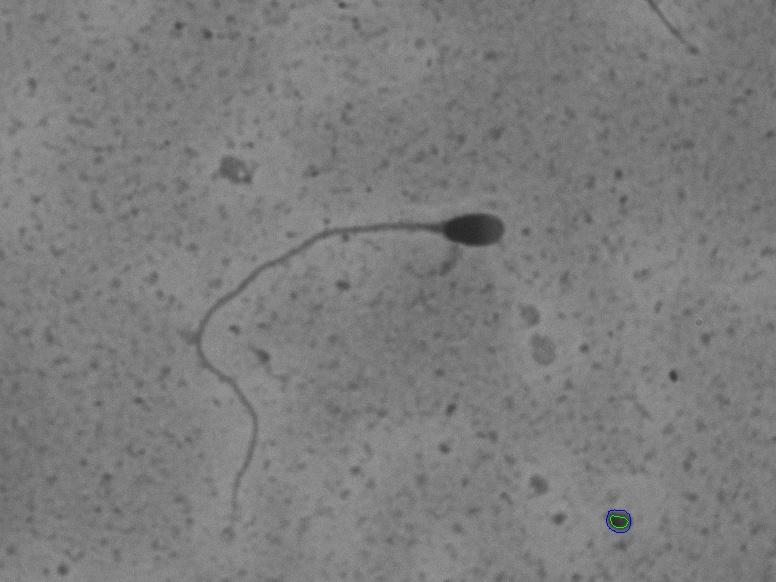Normal: (138, 184, 534, 517)
